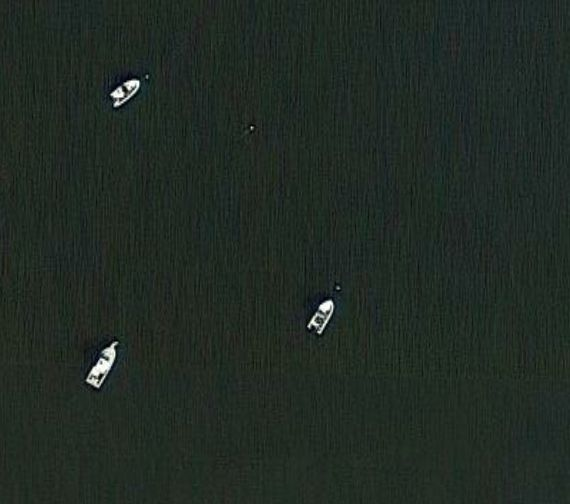boat: (79, 341, 126, 394), (304, 292, 339, 341), (108, 73, 151, 111)
